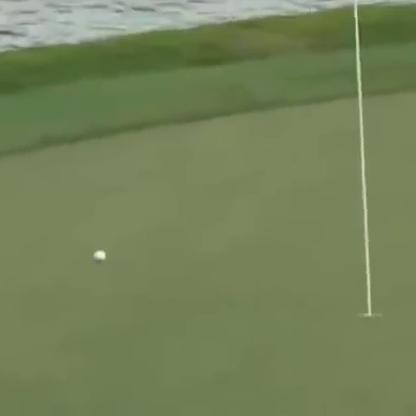golfball: (92, 246, 108, 262)
